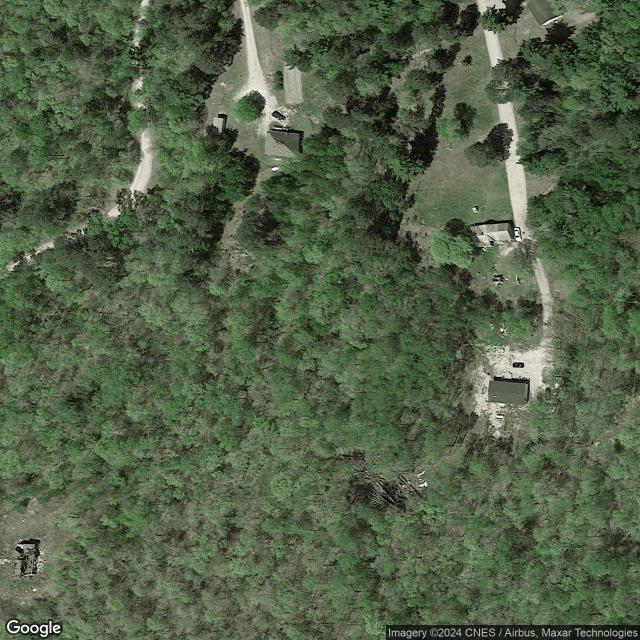Propane: (271, 164, 283, 174), (495, 414, 505, 419)
